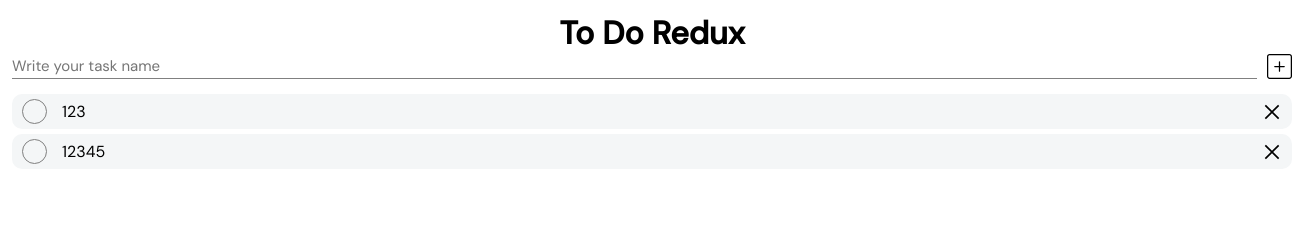
Render TaskPage component › Add new task
This screenshot has width=1304, height=226.
Type "test" into the field with test id "task_input" at (634, 66), box [12,54,1257,79]
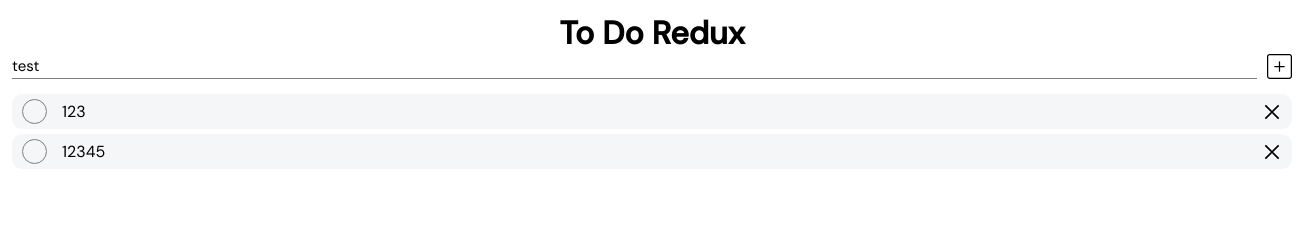
Click the picture with test id "task_input_btn" at (1280, 66), box [1267,54,1292,79]
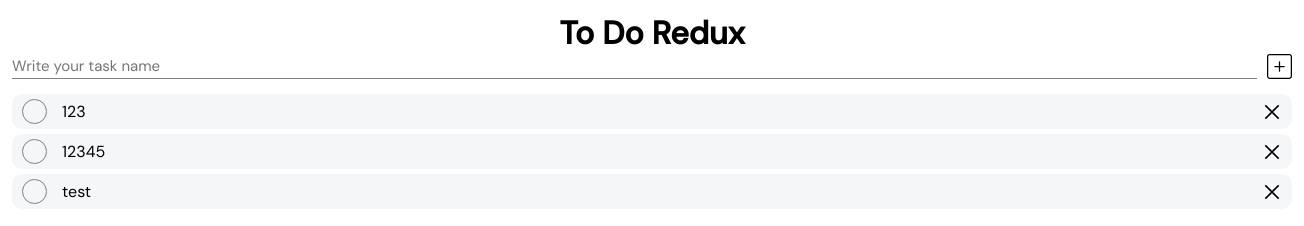
expect the element with test id "tasks_list" is shown: met, box [12,94,1292,209]
expect the number of elements with test id "task" is 3: met, box [12,94,1292,129]; [12,134,1292,169]; [12,174,1292,209]
